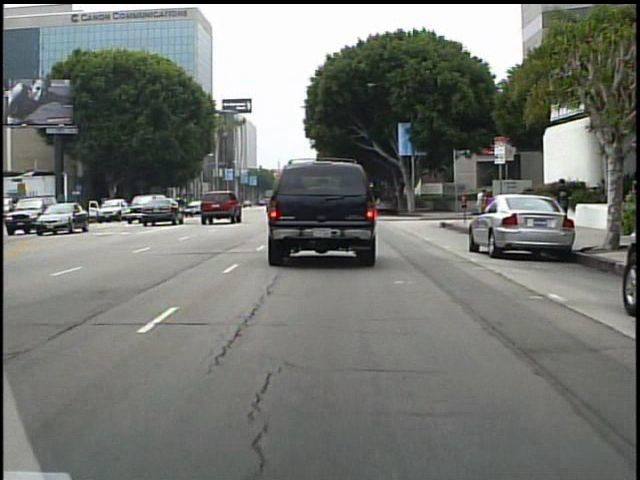person: (472, 185, 491, 225), (551, 172, 572, 206)
